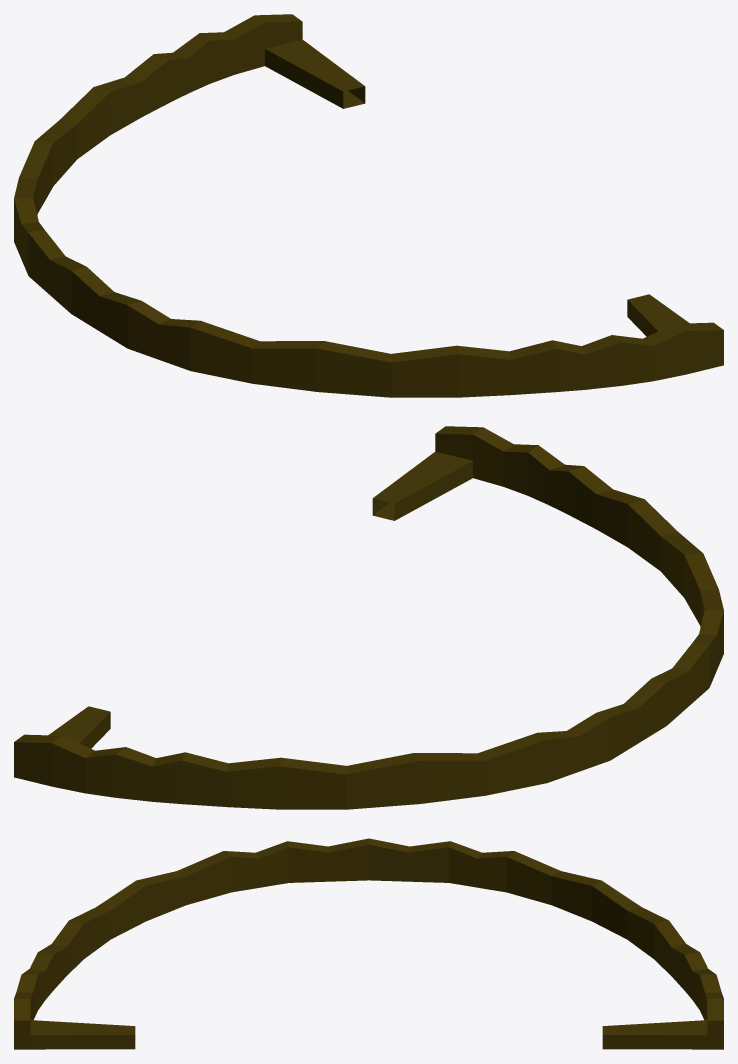
File: Bear_Trap_E.fbx
The picture shows the model from 3 angles, top to bottom: view 1: azimuth 30°, elevation 25°; view 2: azimuth 150°, elevation 25°; view 3: azimuth 270°, elevation 25°; orthographic projection. The views are drawn at different scales.
Visible parts, largest first — view 1: Bear_Trap_E; view 2: Bear_Trap_E; view 3: Bear_Trap_E.
Boxes of the visible parts, x1,y1,x2,y2 form: Bear_Trap_E: (14,14,723,397); Bear_Trap_E: (14,426,723,809); Bear_Trap_E: (14,838,723,1049).
Size of the model in its own units: 31.64 by 3 by 54.12.
